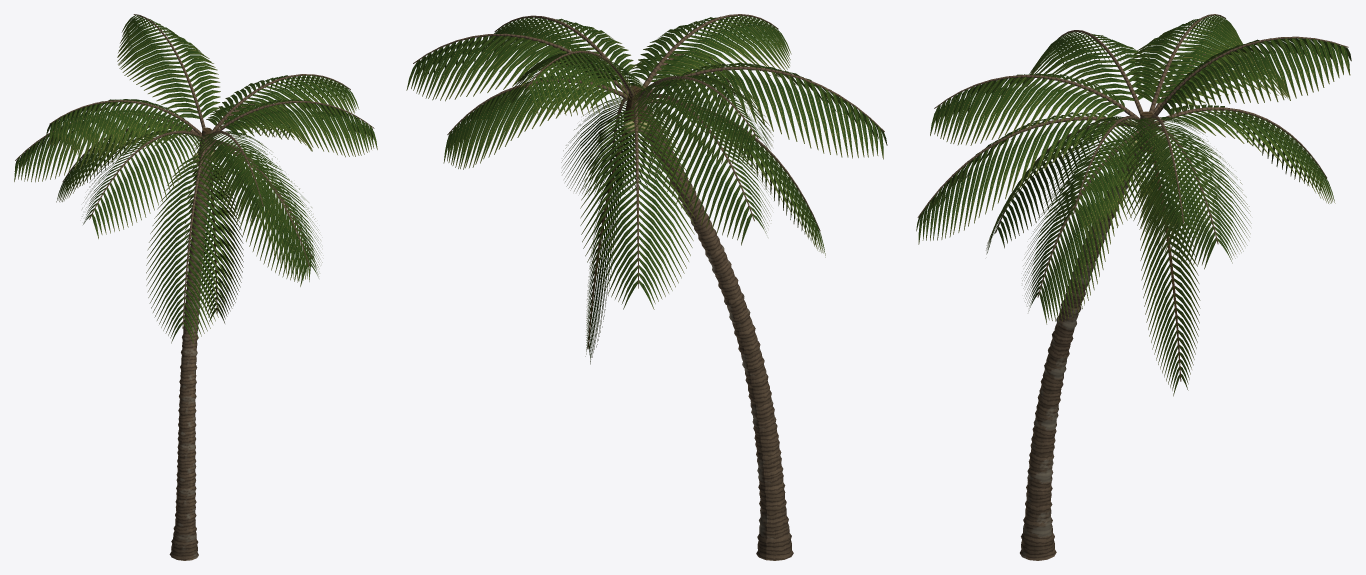
The model's file is palm_a.glb.
3 views of the same model, side by side, from view 1: azimuth 30°, elevation 25°; view 2: azimuth 150°, elevation 25°; view 3: azimuth 270°, elevation 25° (orthographic). The views are drawn at different scales.
Visible parts, largest first — view 1: palm_a; view 2: palm_a; view 3: palm_a.
Part boxes in pixels (box(x1,y1,x2,y2)): palm_a: box(14, 14, 377, 560); palm_a: box(406, 14, 887, 560); palm_a: box(916, 14, 1351, 560).
Size of the model in its own units: 7.79 by 10.22 by 7.21.
3 materials, 2 textured.
